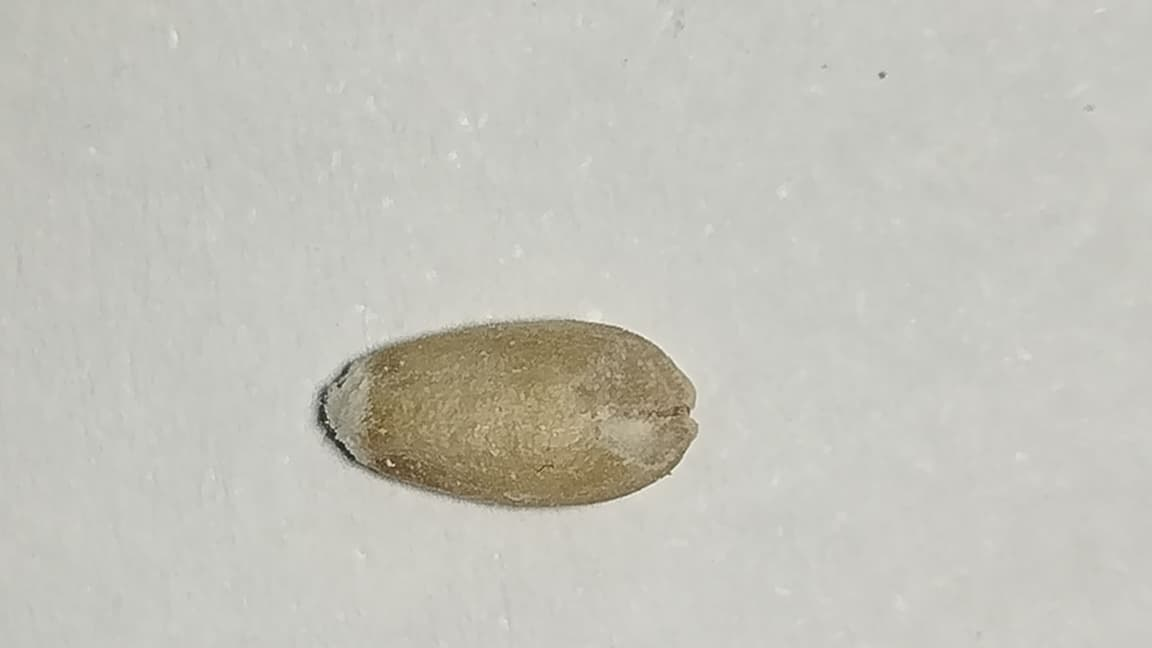damage: (327, 318, 696, 504)
insectdamage: (572, 330, 697, 488)
